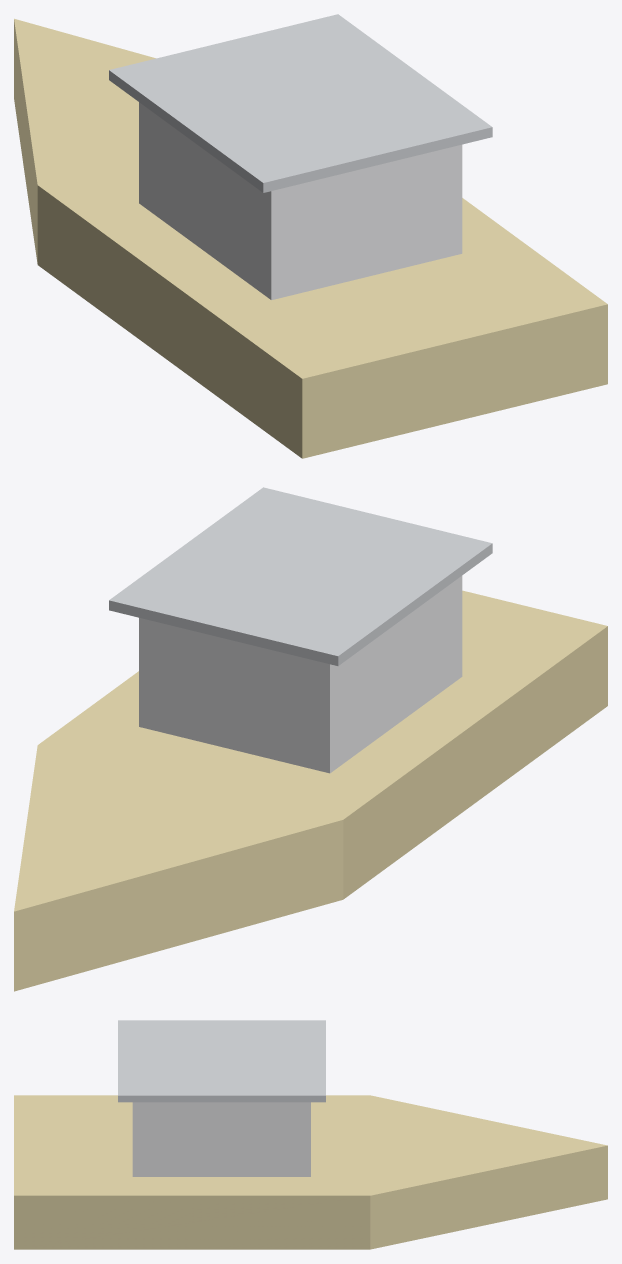
The model's file is boat.glb.
3 views of the same model, one above another, from view 1: azimuth 30°, elevation 25°; view 2: azimuth 150°, elevation 25°; view 3: azimuth 270°, elevation 25° (orthographic). The views are drawn at different scales.
Bounding box in the file's own units: 1.6 × 1.05 × 4.
